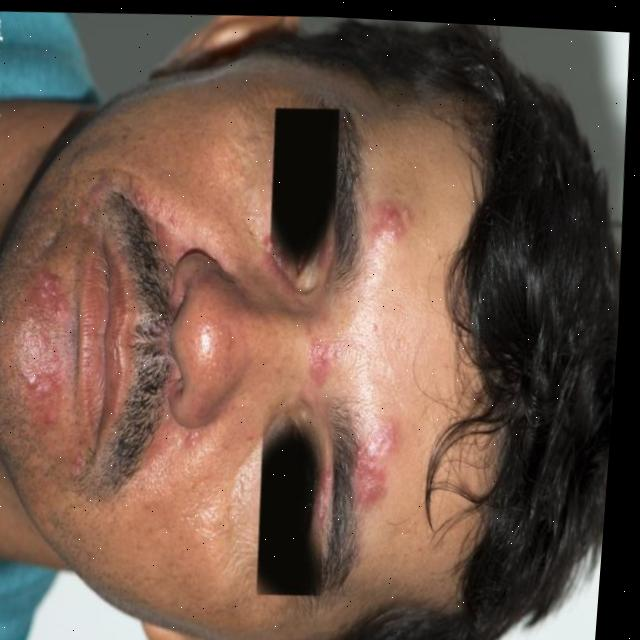Rosacea: (0, 260, 83, 445), (342, 413, 408, 512), (357, 195, 416, 250), (299, 336, 340, 383)
